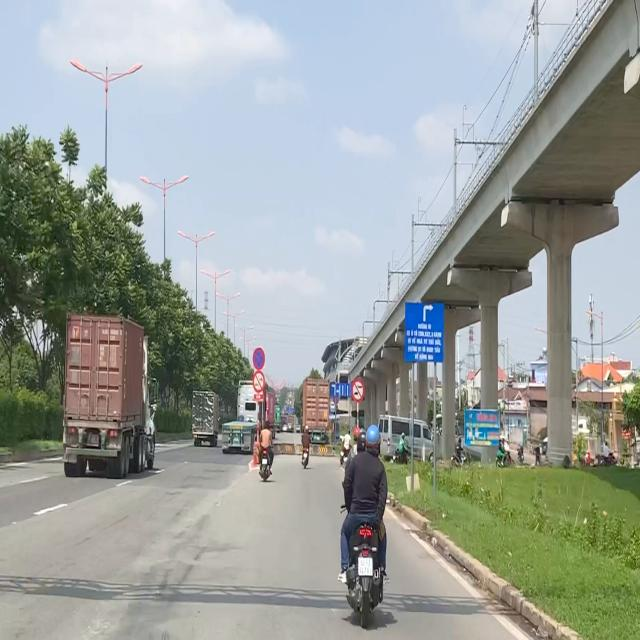Cam con lai: (252, 370, 266, 392), (351, 379, 364, 401)
Cam dung va do: (252, 346, 265, 371)
